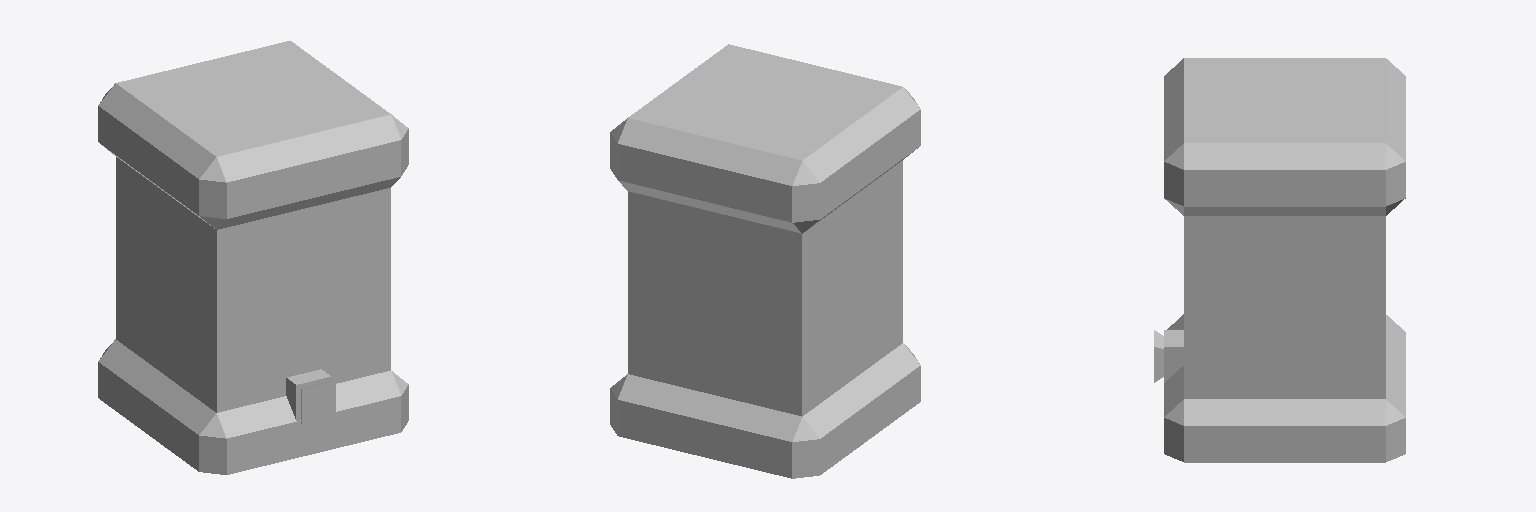
Rendered from materia_vessel_stack.obj.
3 views of the same model, side by side, from view 1: azimuth 30°, elevation 25°; view 2: azimuth 150°, elevation 25°; view 3: azimuth 270°, elevation 25° (orthographic).
Parts seen in each view (by area): view 1: MATERIA_VESSEL_STACKED_Cube.027; view 2: MATERIA_VESSEL_STACKED_Cube.027; view 3: MATERIA_VESSEL_STACKED_Cube.027.
Part boxes in pixels (bbox=[...]): MATERIA_VESSEL_STACKED_Cube.027: bbox=[98, 41, 408, 474]; MATERIA_VESSEL_STACKED_Cube.027: bbox=[610, 44, 920, 478]; MATERIA_VESSEL_STACKED_Cube.027: bbox=[1154, 58, 1405, 462].
Bounding box in the file's own units: 0.75 × 1.06 × 0.7807.